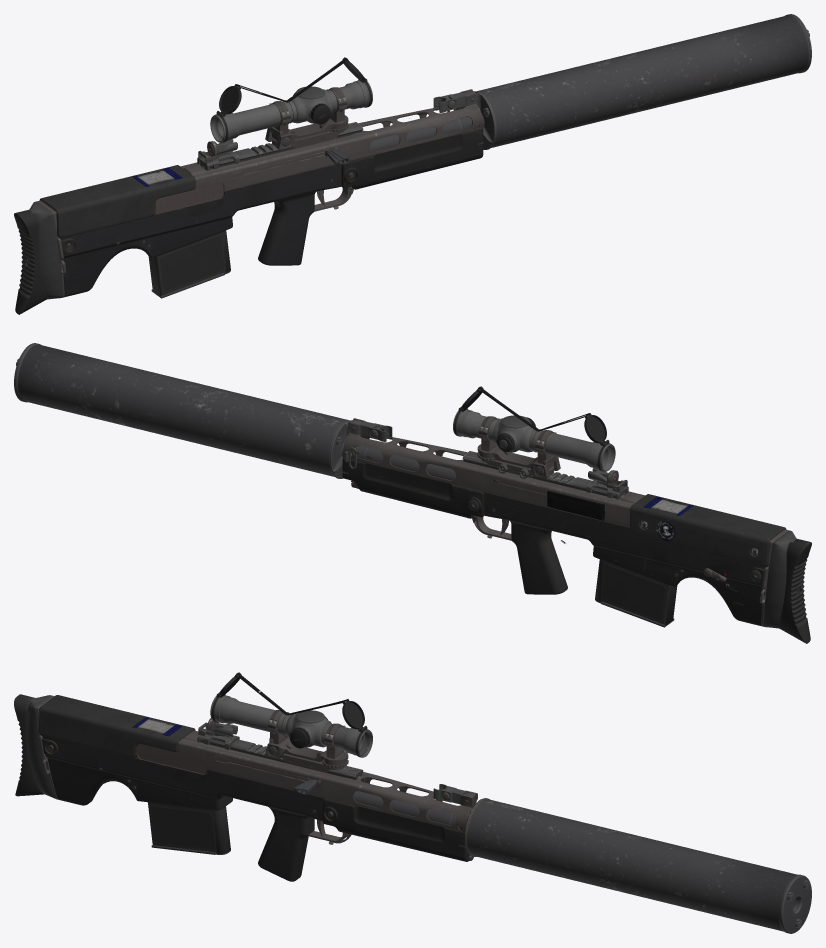
Rendered from vssk.832ac4dda9.glb.
3 renders of one model, top to bottom at view 1: azimuth 30°, elevation 25°; view 2: azimuth 150°, elevation 25°; view 3: azimuth 330°, elevation 25°, orthographic.
Visible parts, largest first — view 1: base_2, base, base_5, base_7, scope_2, mag, base_4, base_6; view 2: base_2, base, base_5, base_7, scope_2, mag, base_3, base_6; view 3: base_2, base, base_5, base_7, scope_2, mag, base_4, base_6.
Boxes of the visible parts, x1,y1,x2,y2 form: base_2: [321, 14, 811, 167]; base: [60, 128, 483, 297]; base_5: [14, 165, 352, 314]; base_7: [39, 90, 483, 220]; scope_2: [210, 57, 372, 149]; mag: [148, 230, 230, 298]; base_4: [155, 149, 353, 213]; base_6: [201, 89, 477, 159]; base_2: [14, 343, 504, 496]; base: [342, 457, 765, 626]; base_5: [473, 494, 811, 643]; base_7: [342, 419, 786, 549]; scope_2: [453, 386, 615, 478]; mag: [595, 559, 677, 627]; base_3: [354, 451, 746, 605]; base_6: [348, 418, 624, 488]; base_2: [314, 791, 811, 933]; base: [42, 736, 469, 881]; base_5: [14, 694, 346, 842]; base_7: [39, 707, 476, 847]; scope_2: [210, 672, 372, 772]; mag: [148, 802, 230, 854]; base_4: [138, 744, 473, 860]; base_6: [202, 718, 477, 806].
Size of the model in its own units: 1.12 by 0.262 by 0.0903.
9 materials, 8 textured.
